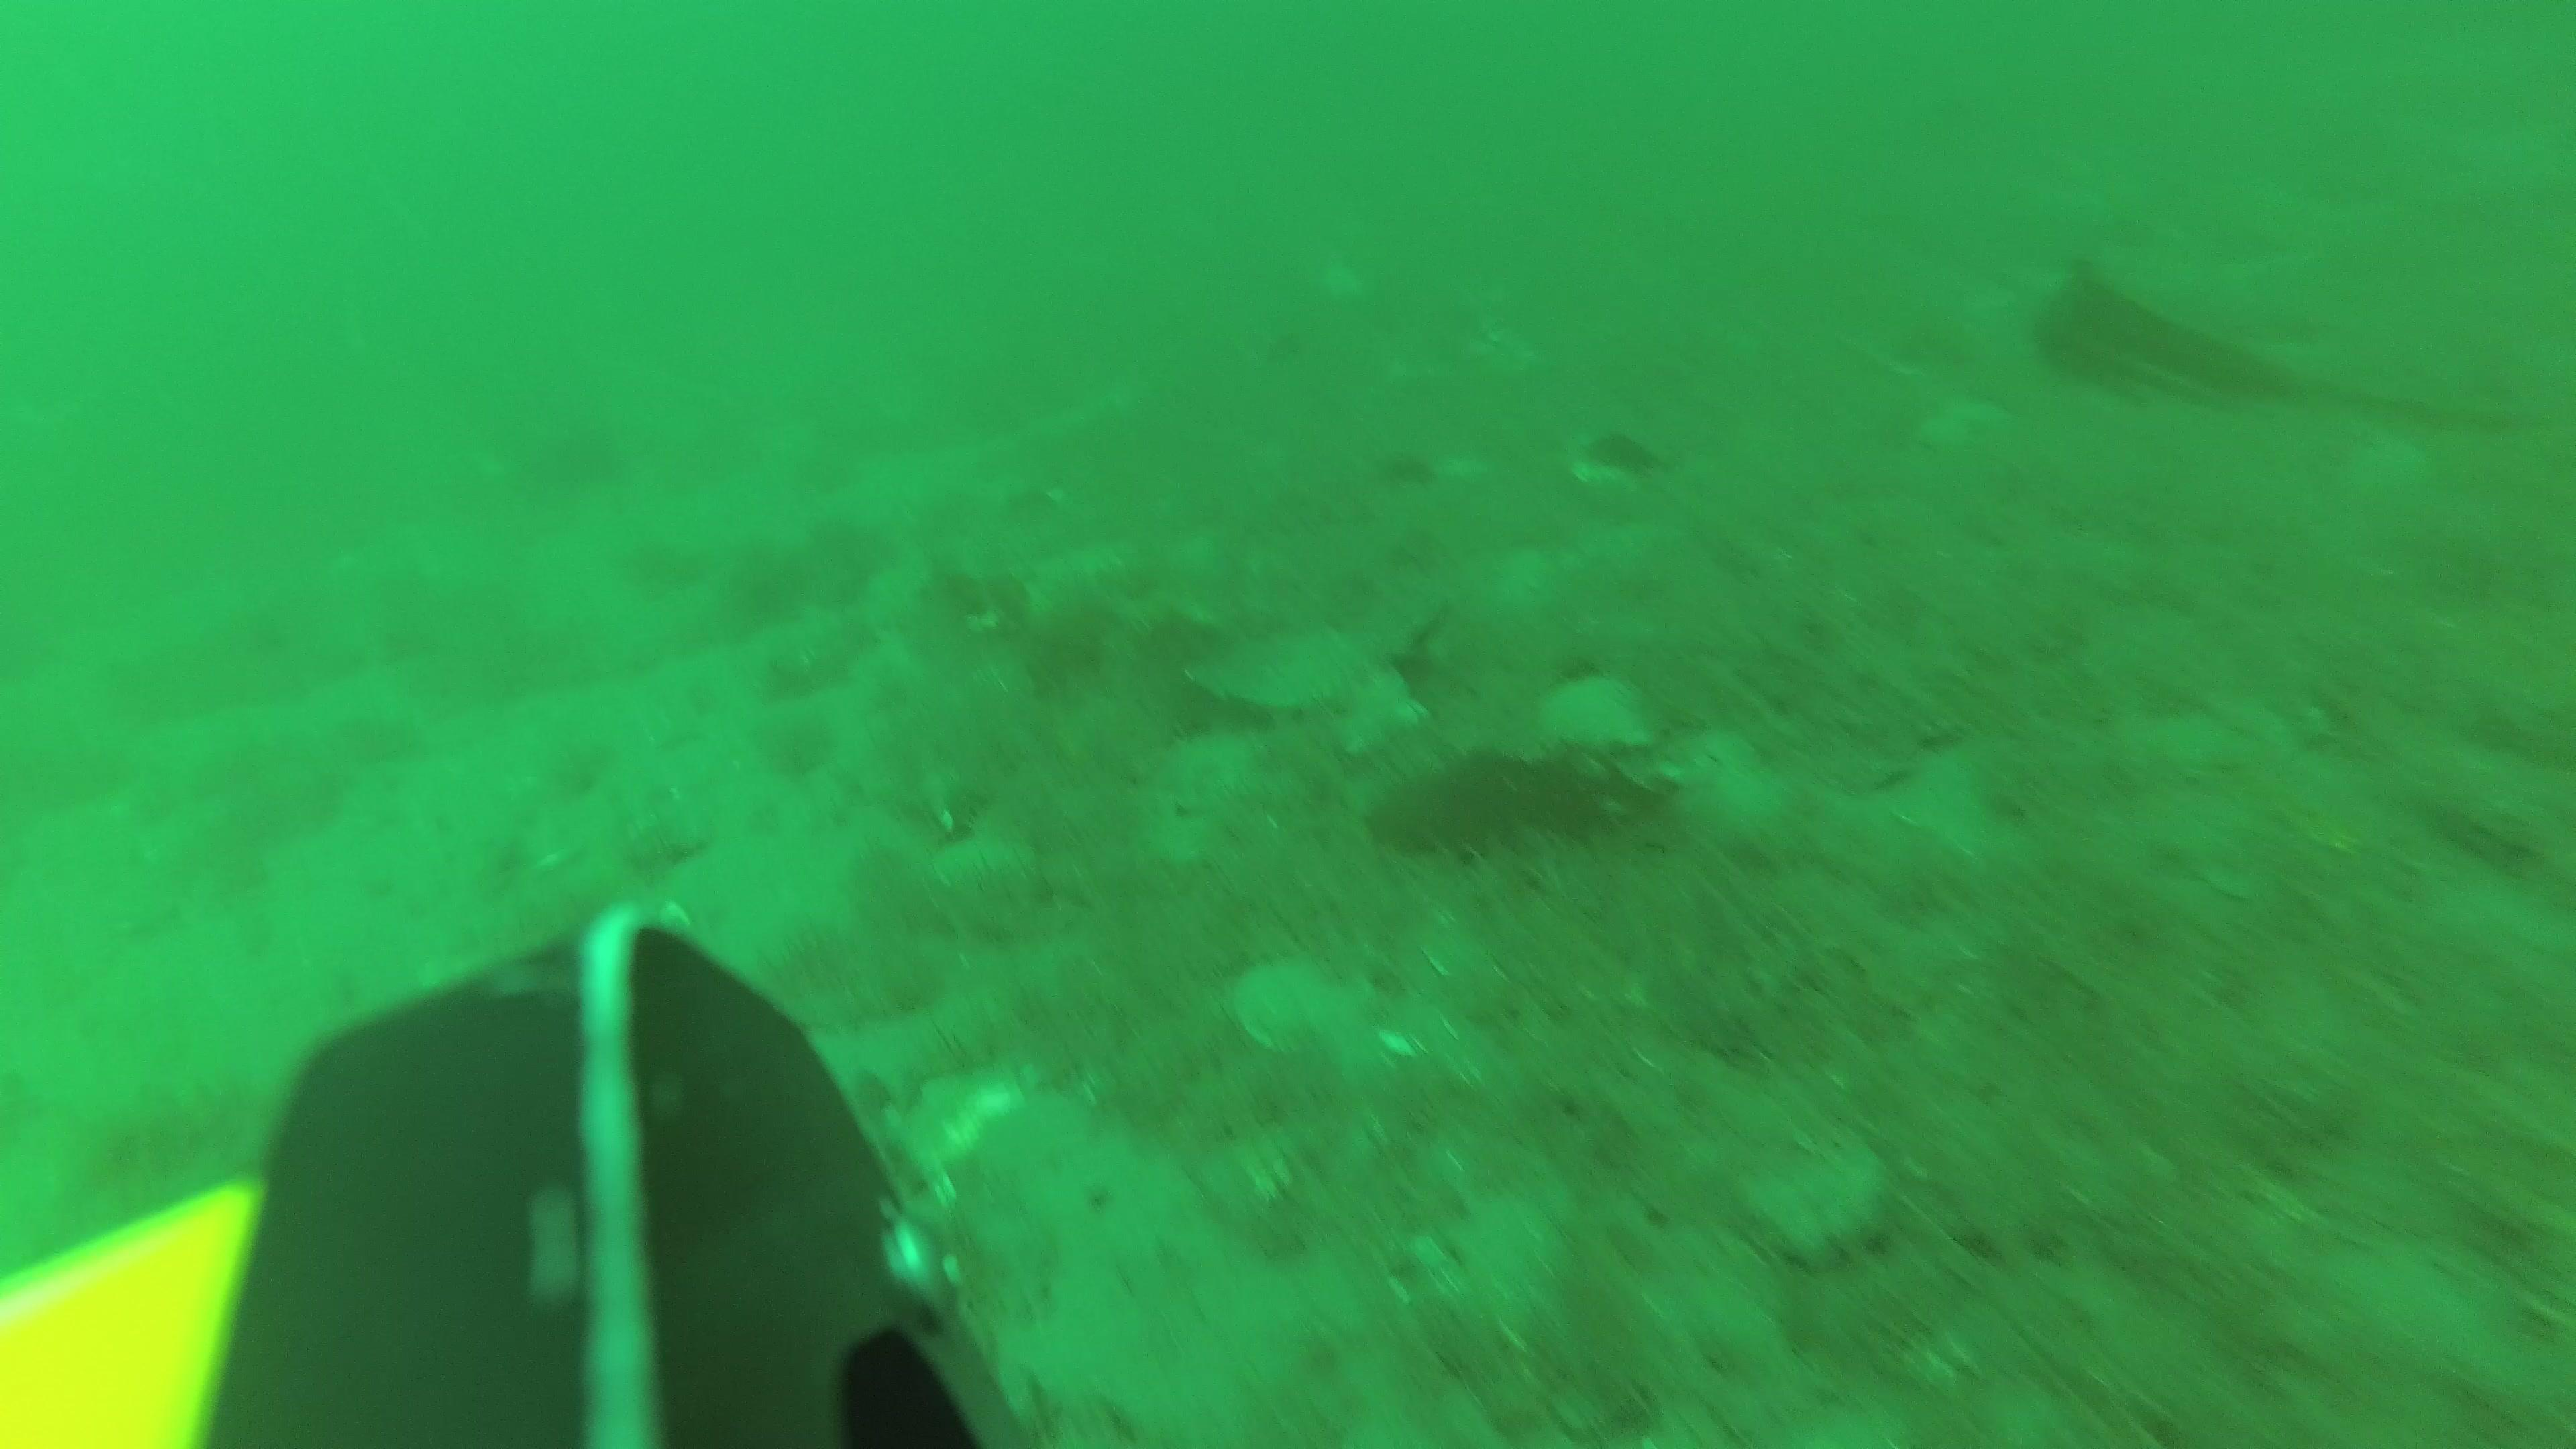scallop: (1238, 957, 1366, 1056), (1546, 672, 1658, 754), (1330, 665, 1430, 755), (938, 833, 1024, 897)
